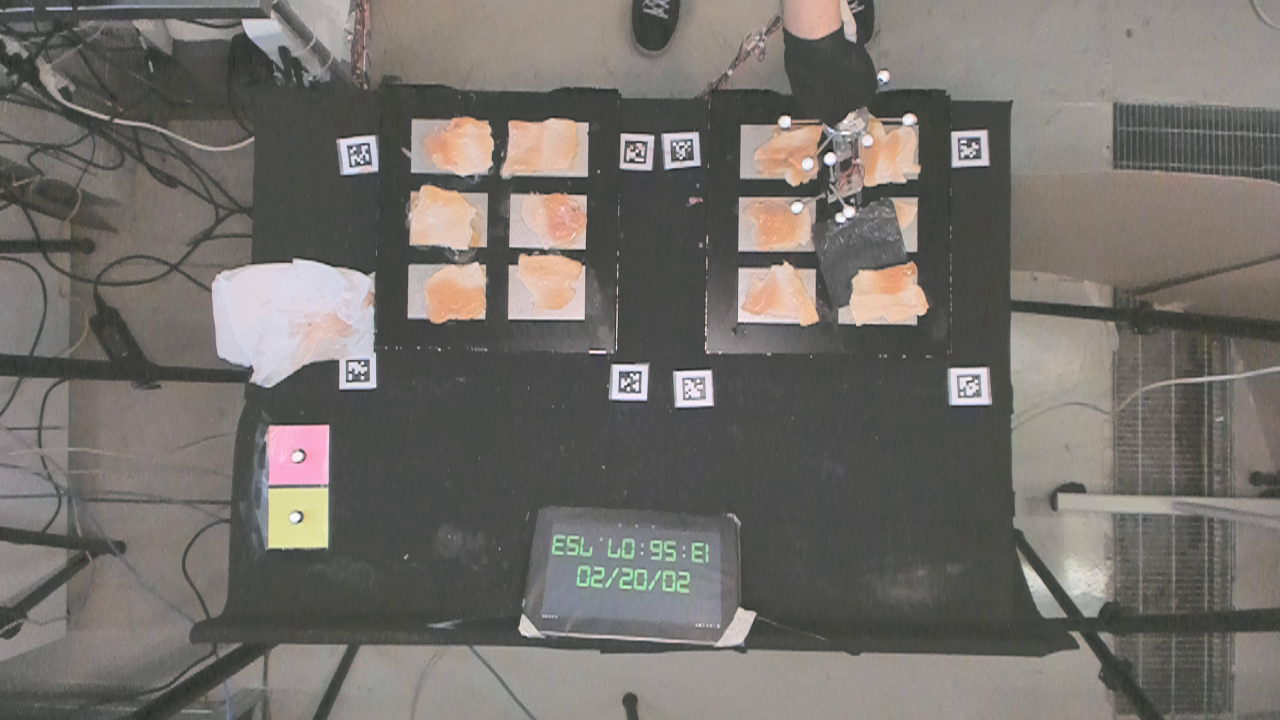chicken: (504, 118, 581, 176), (420, 116, 497, 173), (416, 183, 486, 245), (745, 263, 815, 324), (849, 267, 929, 319), (748, 193, 816, 250), (520, 193, 585, 249), (517, 256, 582, 306), (428, 264, 486, 320), (861, 125, 916, 181), (756, 136, 823, 179)
marker: (266, 423, 330, 486)
